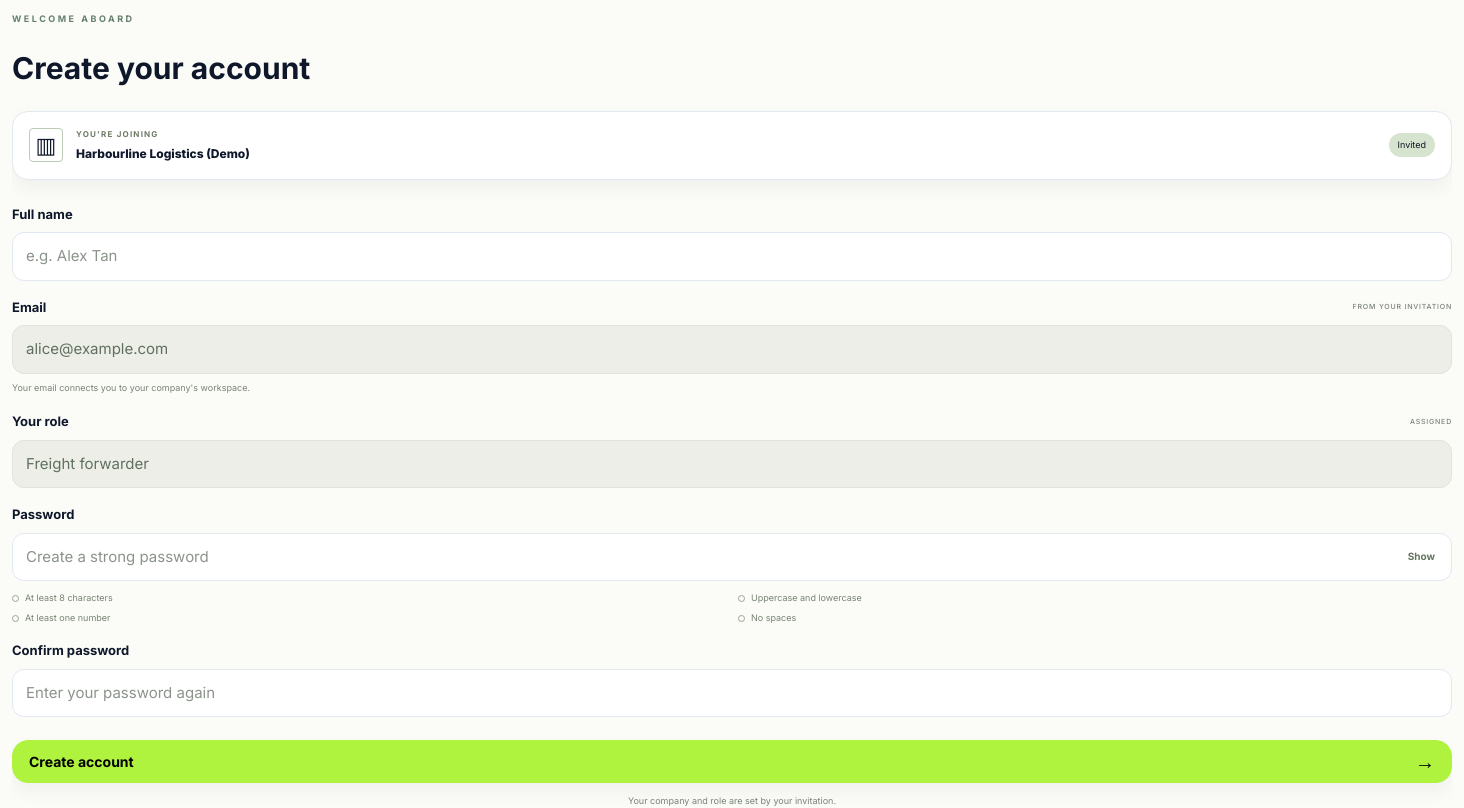
Test: signup form › submits only the invited identity and never the company or role
Type "Alice" into the field labelled "Full name".
click(732, 256); type("Alice")  # box [12,232,1452,281]
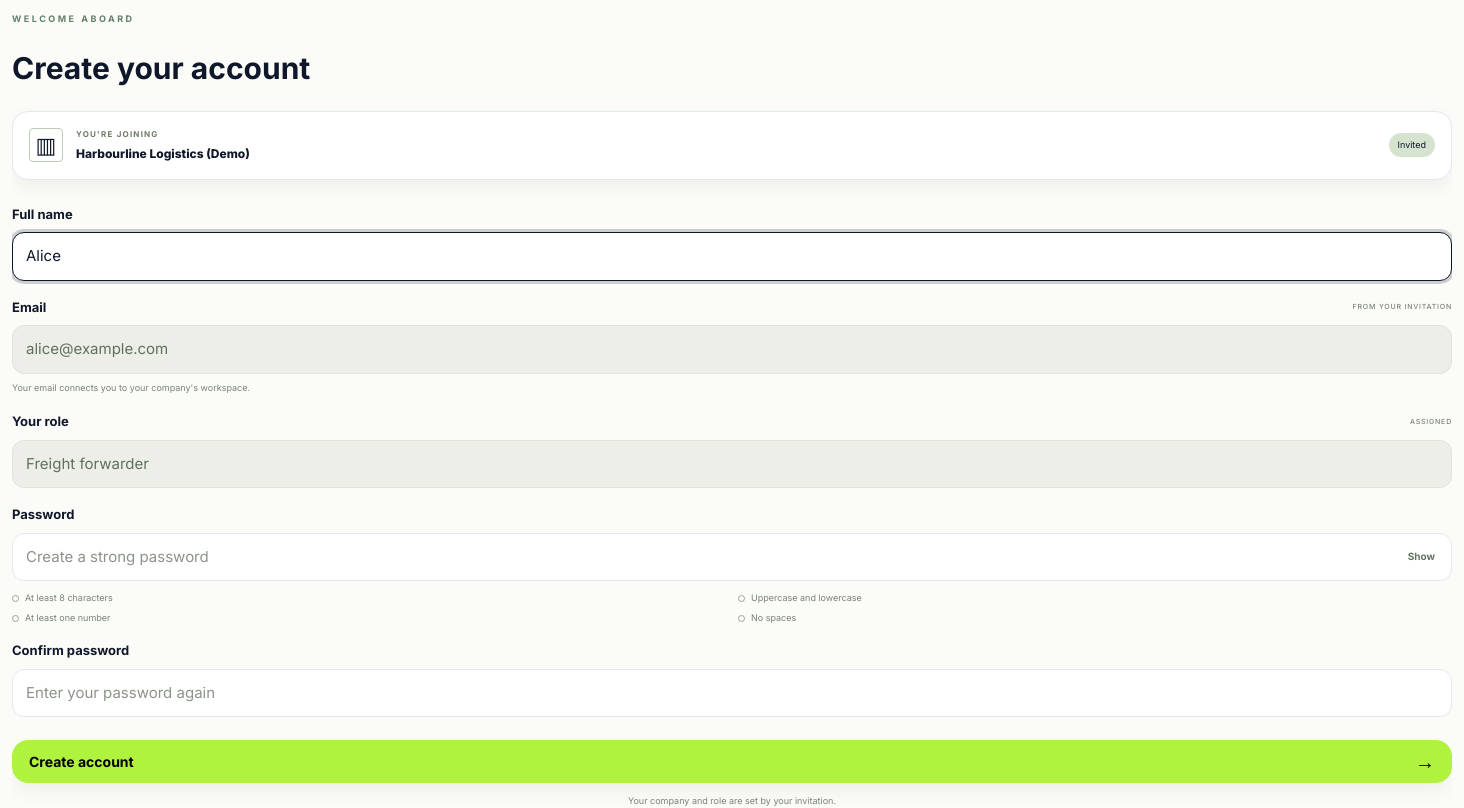
Type "Example123" into the password field labelled "Password".
click(732, 557); type("Example123")  # box [12,533,1452,581]
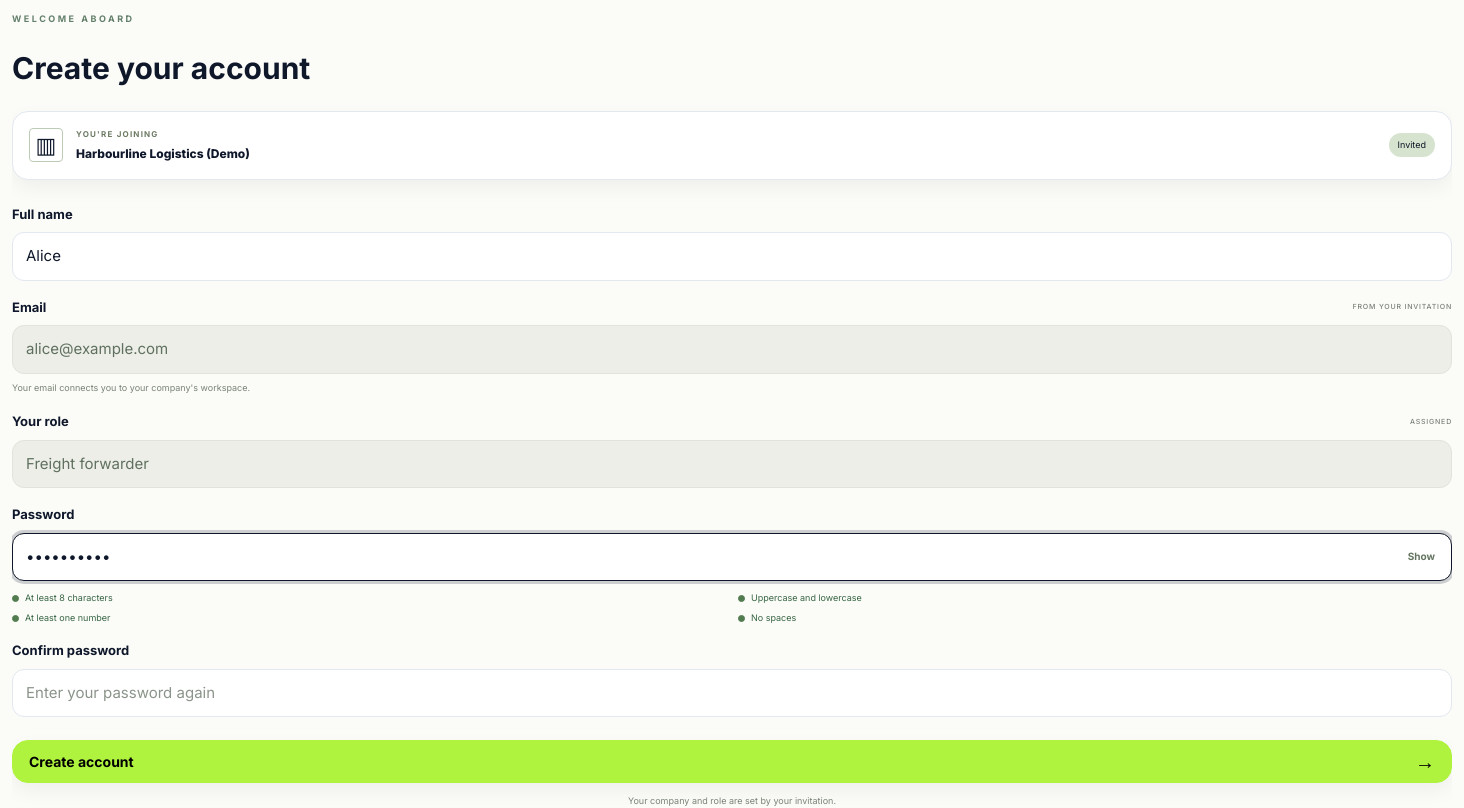
Type "Example123" into the password field labelled "Confirm password".
click(732, 693); type("Example123")  # box [12,669,1452,717]
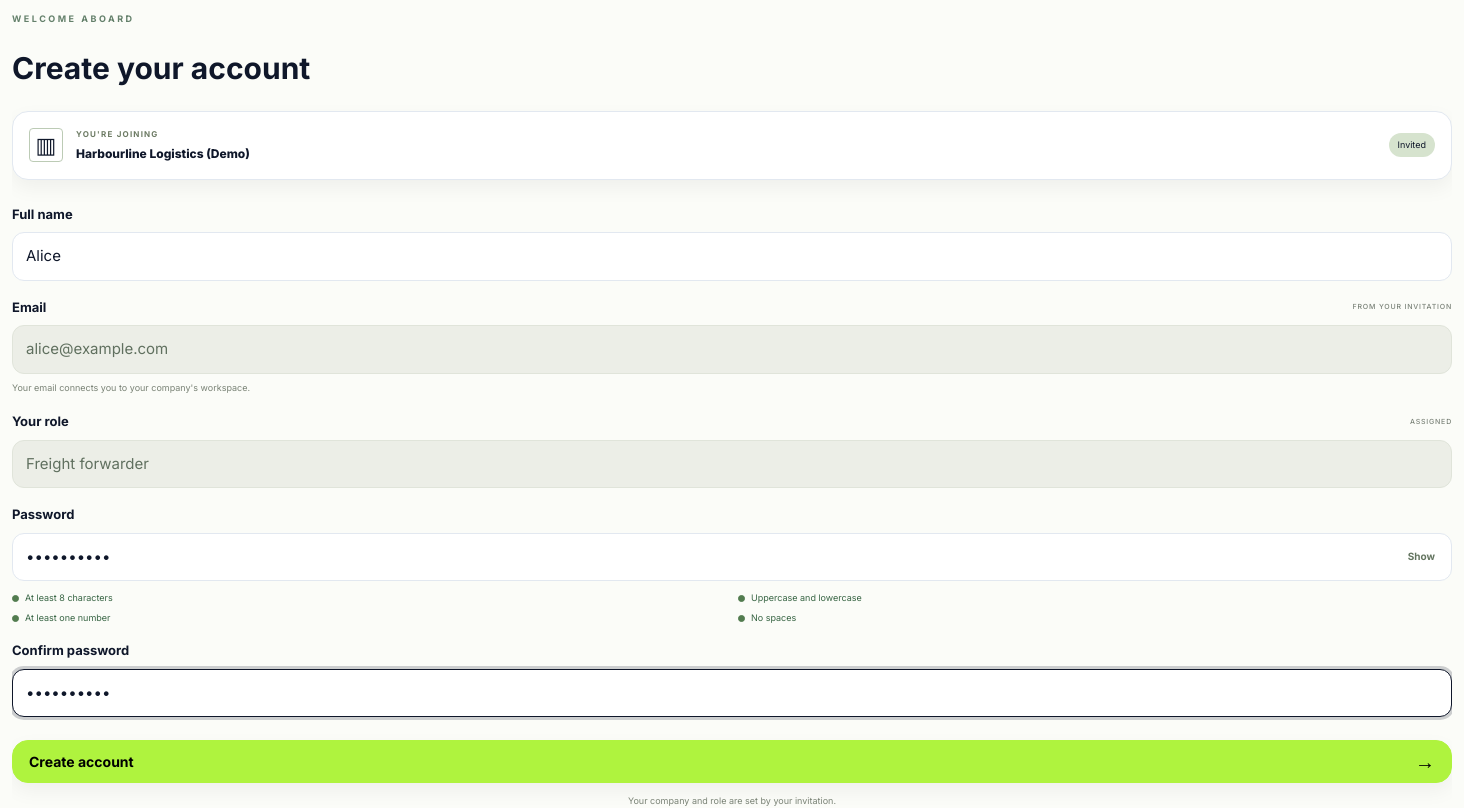
Click the button "Create account →".
click(81, 762)  # box [12,740,1452,783]
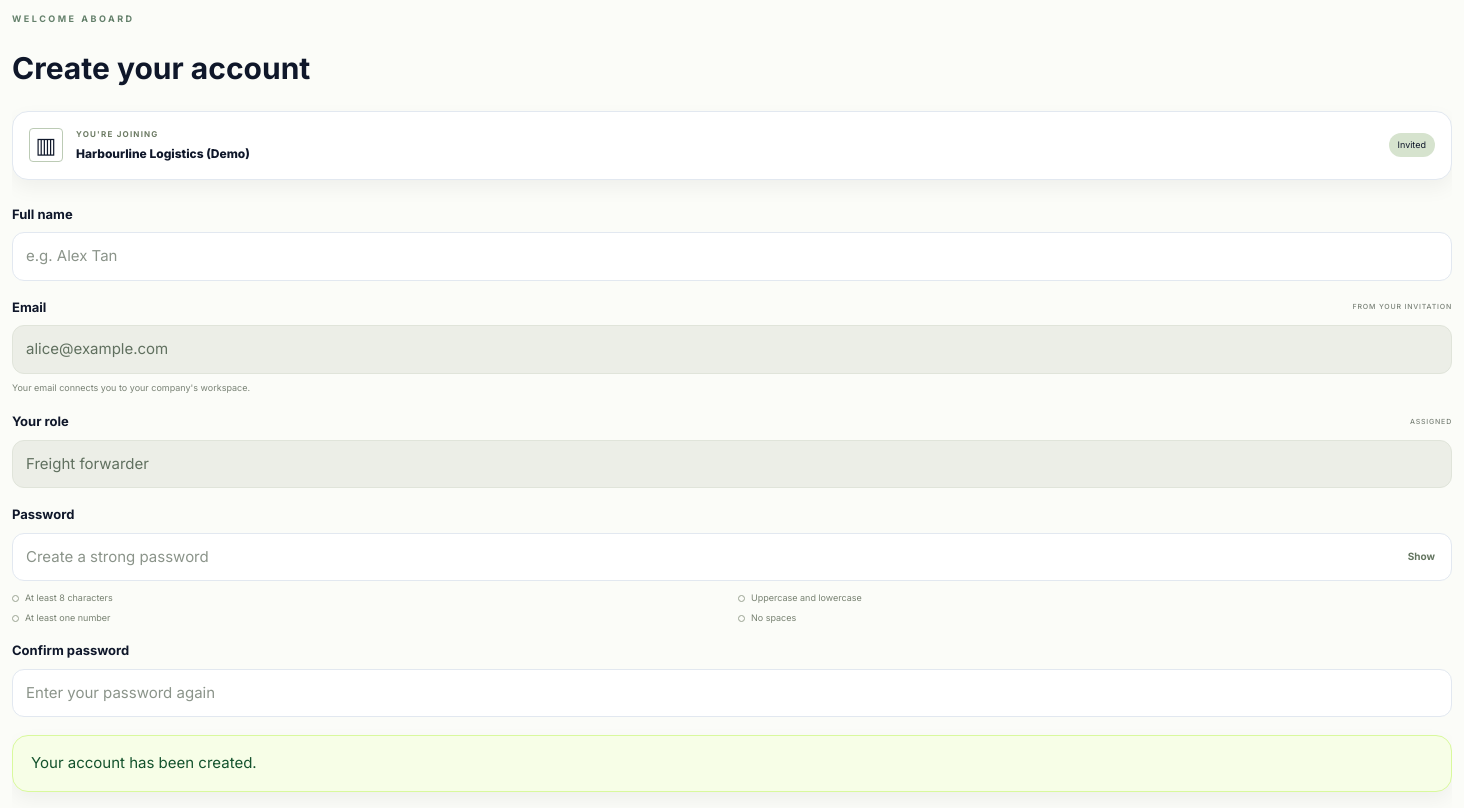
Result: the message shows "Your account has been created" at [31,753,257,772]
